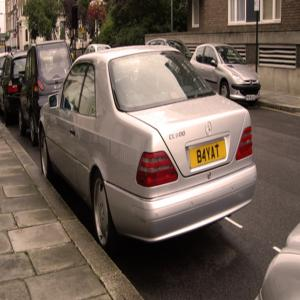Vehicle-registration-plate: (190, 141, 228, 169), (248, 96, 256, 101)
